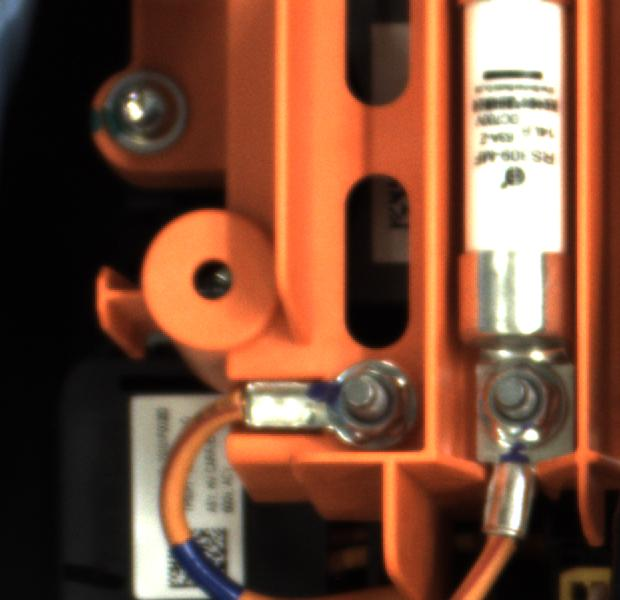screw_m: (88, 68, 199, 166)
screw_s: (318, 355, 423, 442), (468, 360, 566, 449)
